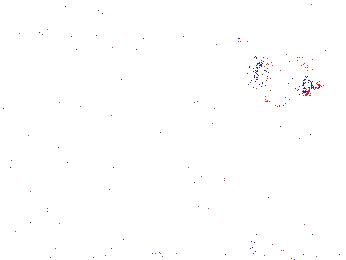flame jellyfish: (245, 49, 322, 109), (146, 151, 209, 224), (4, 166, 71, 219)
